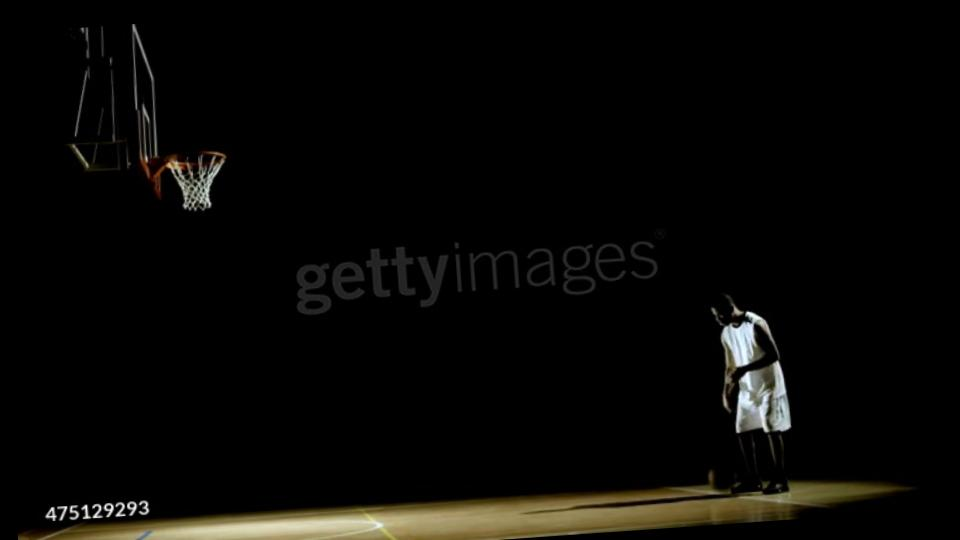hoop: (146, 146, 234, 177)
